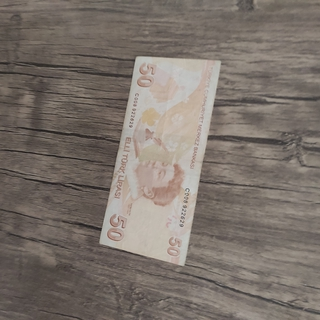50TLBack: (98, 55, 221, 266)
